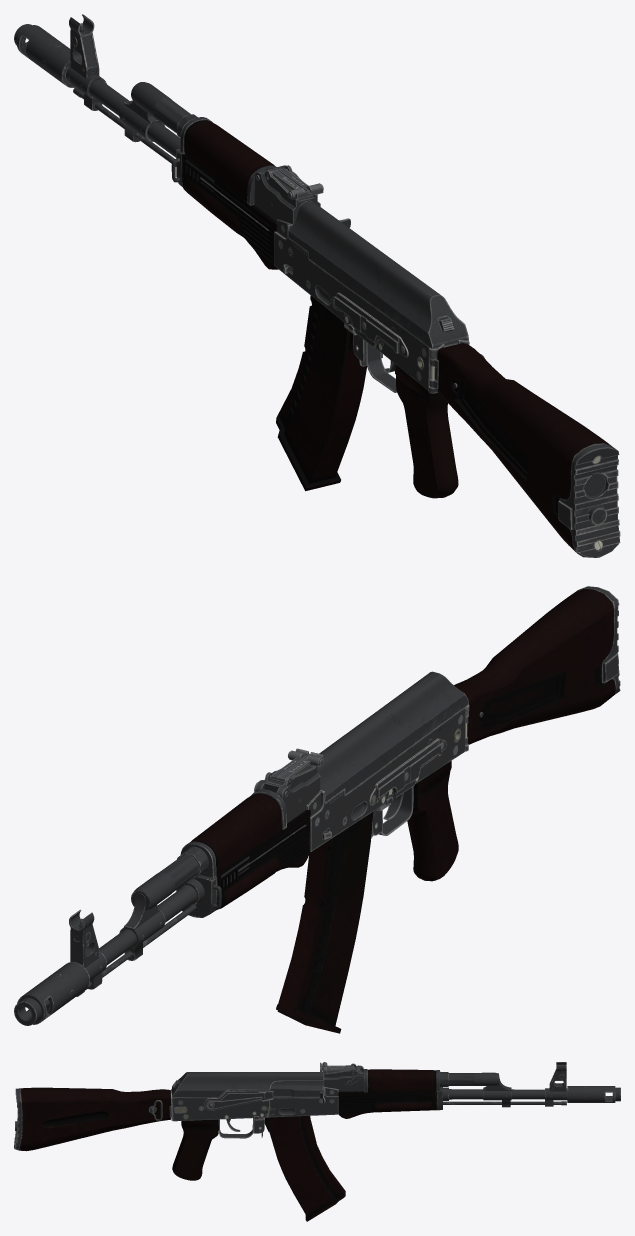
File: weapon_ak74.glb
The picture shows the model from 3 angles, top to bottom: view 1: azimuth 30°, elevation 25°; view 2: azimuth 150°, elevation 25°; view 3: azimuth 270°, elevation 25°; orthographic projection. The views are drawn at different scales.
Parts seen in each view (by area): view 1: Receiver, Mag; view 2: Receiver, Mag; view 3: Receiver, Mag, Bolt.
Boxes of the visible parts, box(x1,y1,x2,y2) form: Receiver: box(14, 14, 620, 557); Mag: box(276, 295, 366, 491); Receiver: box(14, 586, 620, 1025); Mag: box(276, 812, 373, 1033); Receiver: box(14, 1062, 620, 1180); Mag: box(264, 1116, 345, 1221); Bolt: box(270, 1081, 325, 1103).
Size of the model in its own units: 0.0657 by 0.263 by 0.94.
2 materials, 1 textured.
